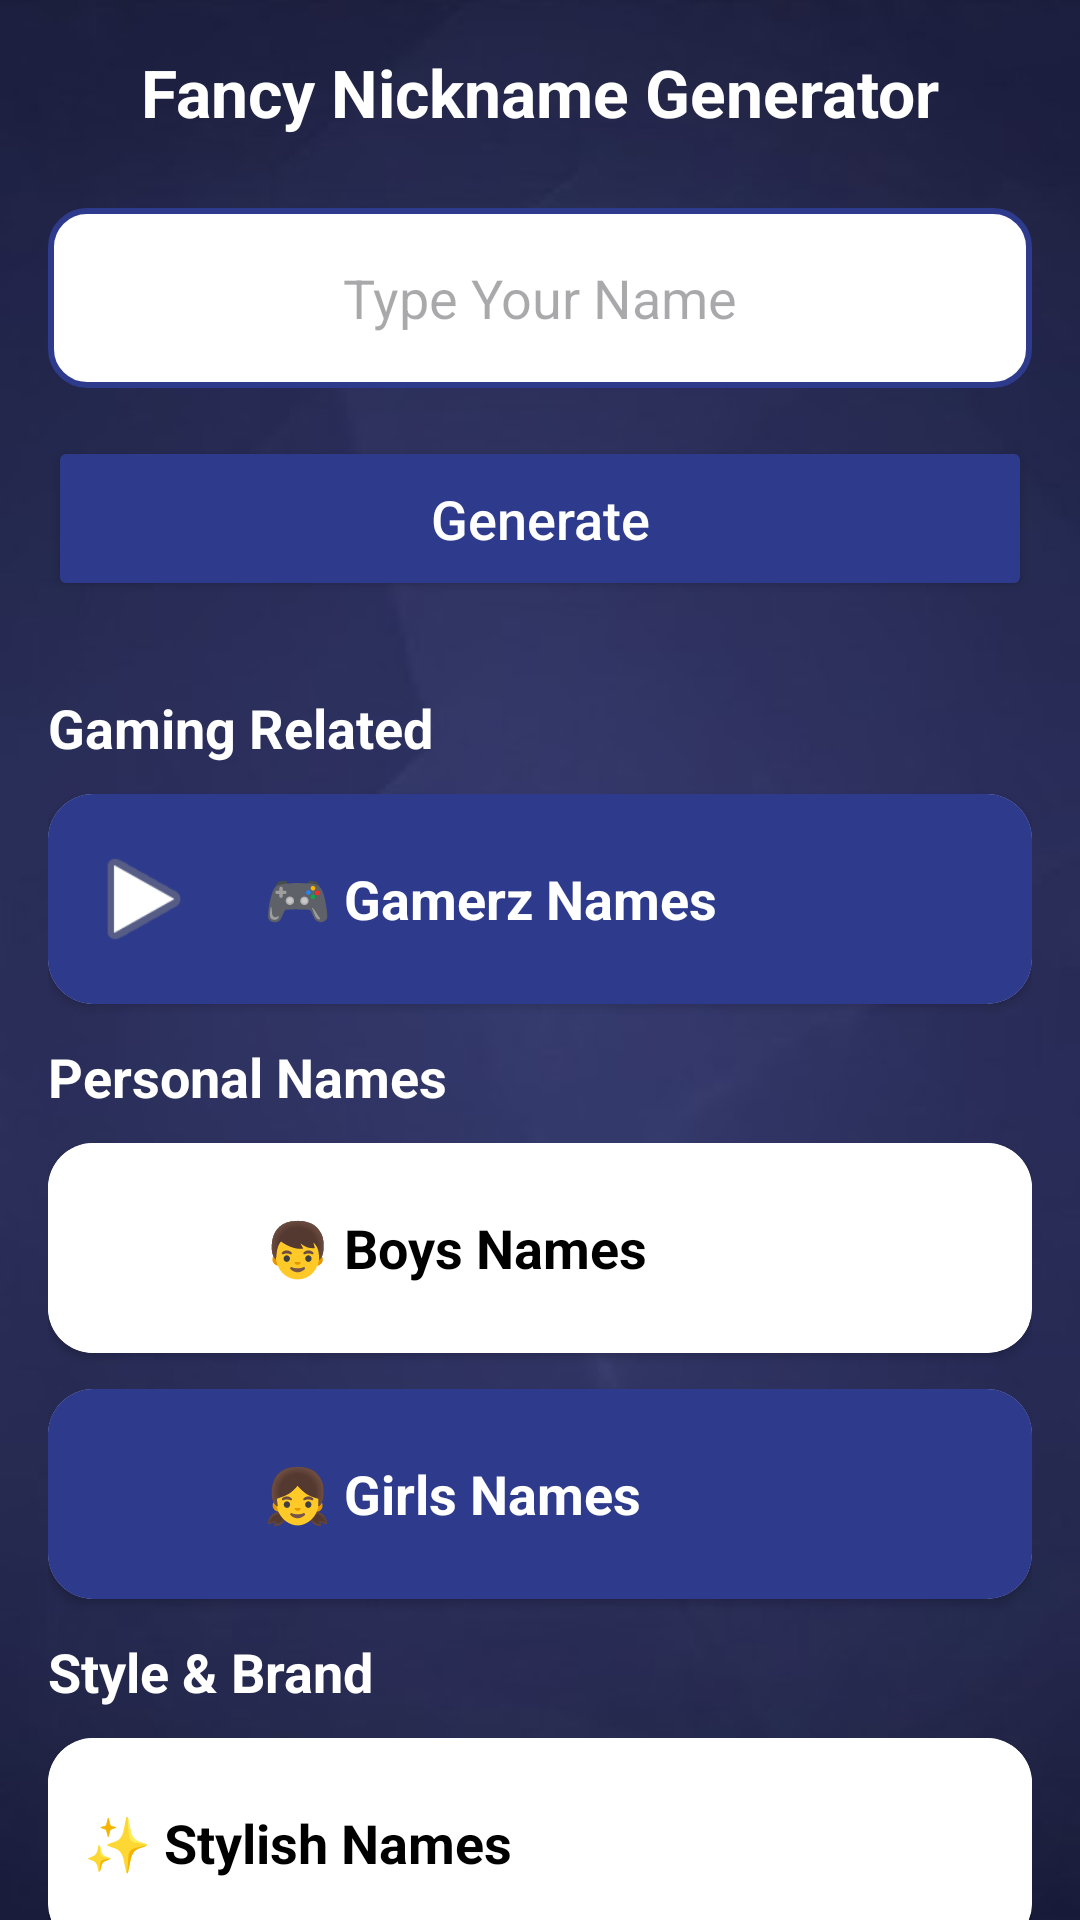

Locate icon controls on the screen. Image size 1080*1920, boxes as (x1, y1, x2, y2).
play: (108, 859, 180, 939)
